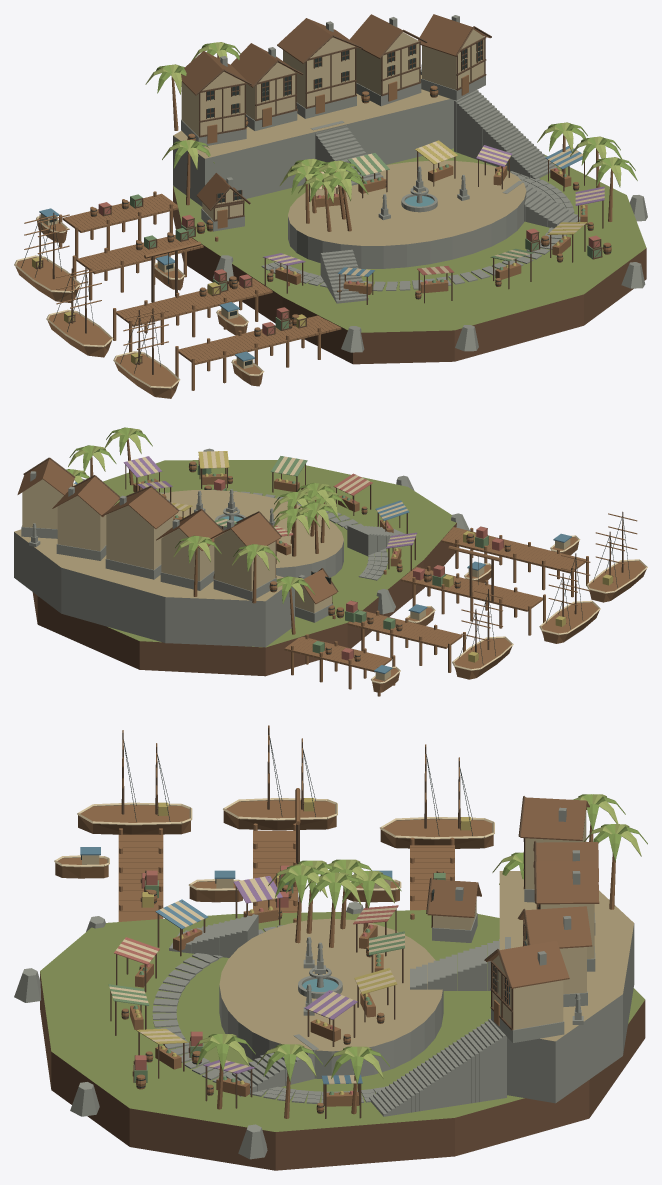
The model's file is MarketHarbor.fbx.
3 renders of one model, top to bottom at view 1: azimuth 30°, elevation 25°; view 2: azimuth 150°, elevation 25°; view 3: azimuth 270°, elevation 25°, orthographic. The views are drawn at different scales.
Parts seen in each view (by area): view 1: Terrain, Terraces, Buildings, Docks, Stairs, Ships, Roofs, Palms, Props, Awnings, Market, Timber (+6 smaller); view 2: Terrain, Terraces, Buildings, Docks, Ships, Roofs, Palms, Props, Awnings, Rigging, Market, Stairs (+5 smaller); view 3: Terrain, Terraces, Stairs, Ships, Roofs, Palms, Docks, Buildings, Awnings, Market, Paving, Props (+6 smaller).
Boxes of the visible parts, box(x1,y1,x2,y2) form: Terrain: box(173, 148, 646, 364); Terraces: box(173, 75, 526, 268); Buildings: box(181, 29, 485, 231); Docks: box(59, 191, 341, 390); Stairs: box(311, 90, 580, 303); Ships: box(14, 208, 264, 398); Roofs: box(181, 14, 490, 210); Palms: box(145, 42, 637, 231); Props: box(32, 85, 611, 364); Awnings: box(263, 140, 604, 276); Market: box(264, 149, 603, 304); Timber: box(195, 26, 491, 221); Terrain: box(32, 460, 459, 676); Terraces: box(14, 490, 343, 647); Buildings: box(21, 479, 332, 622); Docks: box(284, 527, 588, 696); Ships: box(371, 533, 647, 692); Roofs: box(17, 459, 337, 604); Palms: box(66, 427, 348, 634); Props: box(157, 458, 613, 662); Awnings: box(73, 451, 416, 548); Rigging: box(458, 511, 637, 664); Market: box(125, 452, 415, 570); Stairs: box(159, 492, 404, 556); Terrain: box(40, 910, 645, 1170); Terraces: box(219, 871, 634, 1103); Stairs: box(169, 914, 510, 1116); Ships: box(54, 798, 494, 902); Roofs: box(427, 797, 599, 988); Palms: box(190, 794, 647, 1118); Docks: box(118, 823, 454, 922); Buildings: box(432, 810, 595, 1042); Awnings: box(108, 876, 404, 1084); Market: box(110, 877, 403, 1118); Paving: box(152, 925, 388, 1103); Props: box(121, 798, 470, 1113).
Bounding box in the file's own units: 72.63 × 19.42 × 56.56.
